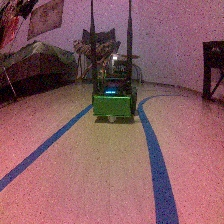rob: (91, 68, 138, 124)
